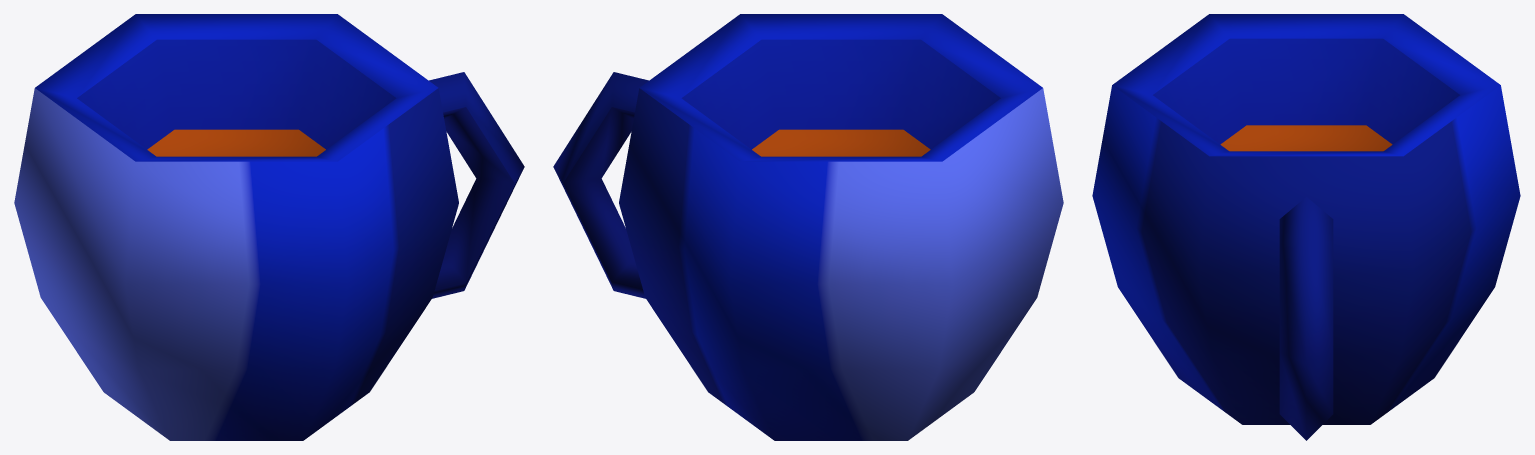
The model's file is CanecaAzul.fbx.
The picture shows the model from 3 angles, left to right: view 1: azimuth 30°, elevation 25°; view 2: azimuth 150°, elevation 25°; view 3: azimuth 270°, elevation 25°; orthographic projection. The views are drawn at different scales.
Parts seen in each view (by area): view 1: CanecaAzul; view 2: CanecaAzul; view 3: CanecaAzul.
Boxes of the visible parts, box(x1,y1,x2,y2) form: CanecaAzul: box(14, 14, 524, 440); CanecaAzul: box(553, 14, 1063, 440); CanecaAzul: box(1092, 14, 1520, 440).
Bounding box in the file's own units: 32.14 × 20.55 × 27.22.
